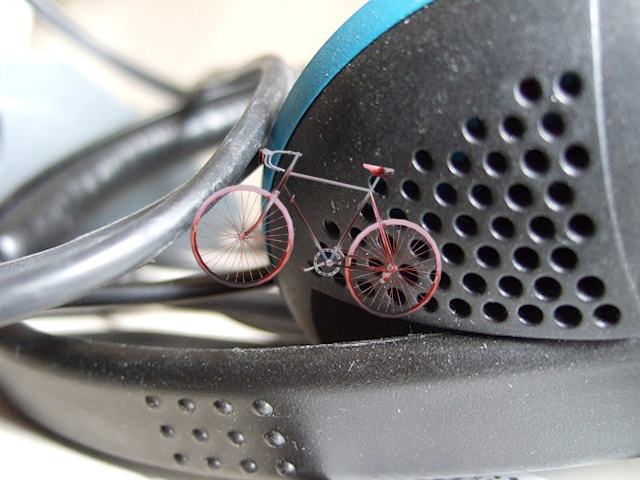bike: (177, 144, 449, 321)
